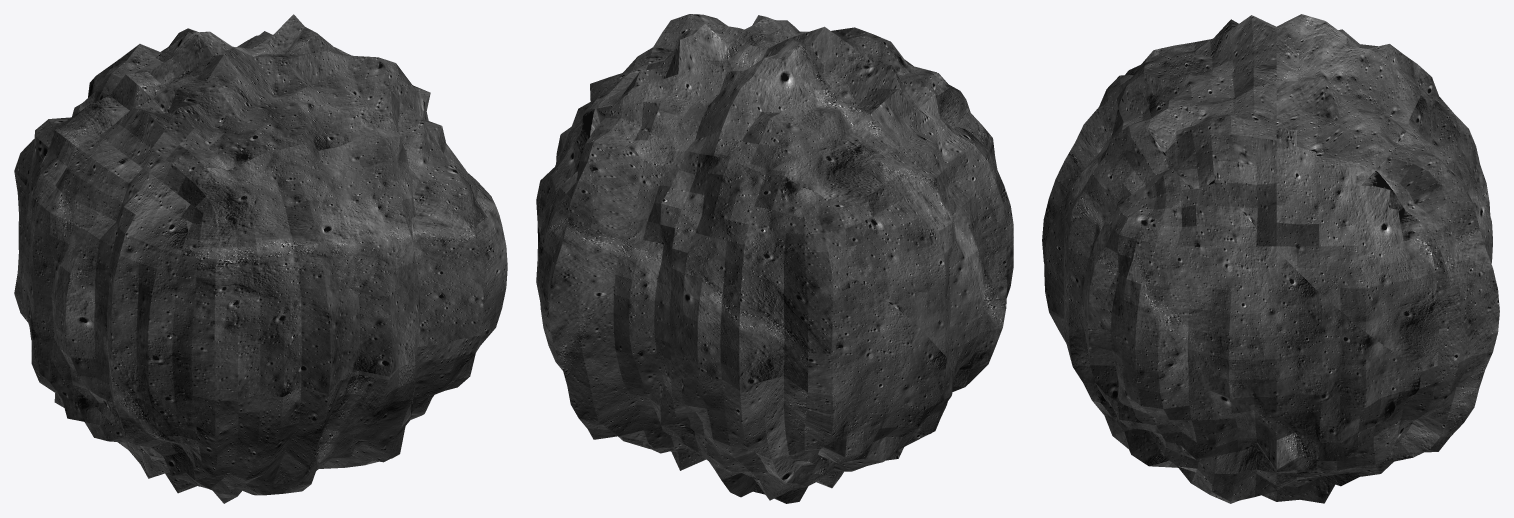
File: asteroid124.obj
3 renders of one model, left to right at view 1: azimuth 30°, elevation 25°; view 2: azimuth 150°, elevation 25°; view 3: azimuth 270°, elevation 25°, orthographic.
Visible parts, largest first — view 1: Cube_Cube.002; view 2: Cube_Cube.002; view 3: Cube_Cube.002.
Boxes of the visible parts, left/top/right/bottom form: Cube_Cube.002: left=14, top=14, right=507, bottom=503; Cube_Cube.002: left=536, top=14, right=1013, bottom=503; Cube_Cube.002: left=1042, top=14, right=1499, bottom=503.
Bounding box in the file's own units: 1.79 × 1.91 × 1.76.
